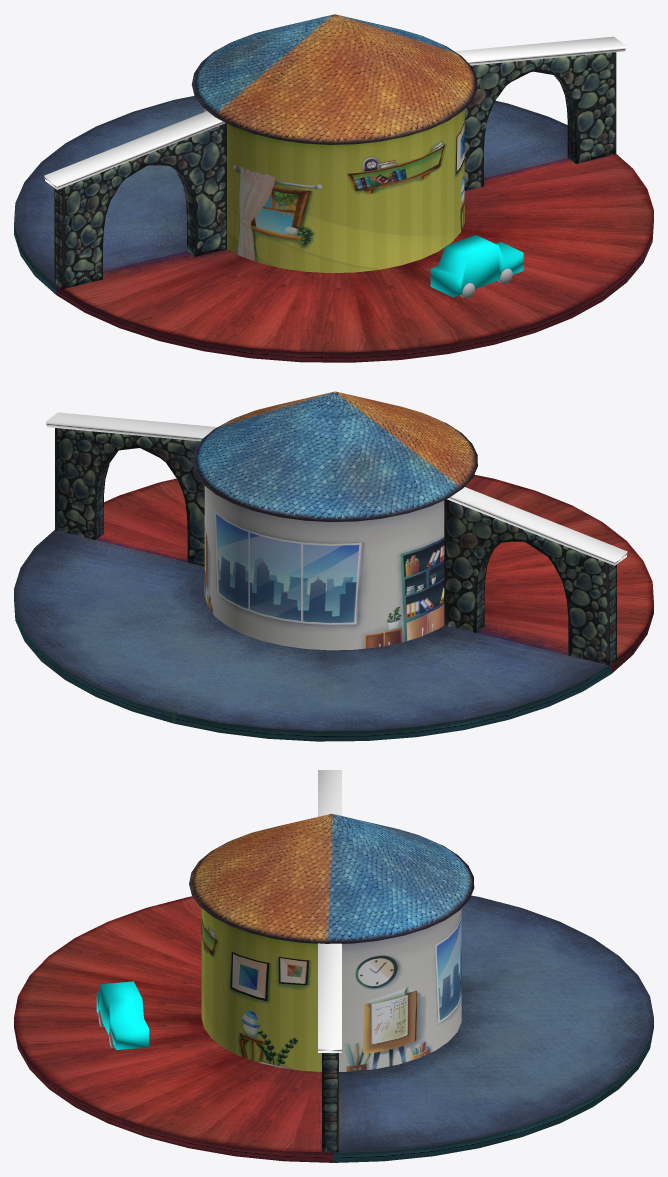
Rendered from Set_anim_Test_03_GLB.glb.
3 views of the same model, one above another, from view 1: azimuth 30°, elevation 25°; view 2: azimuth 150°, elevation 25°; view 3: azimuth 270°, elevation 25° (orthographic).
Visible parts, largest first — view 1: Set_01_4, Set_01_3, Set_01_1, Set_01_2, Car_01_2; view 2: Set_01_4, Set_01_3, Set_01_1, Set_01_2; view 3: Set_01_4, Set_01_3, Set_01_2, Car_01_2, Set_01_1.
Part boxes in pixels (x1=…): Set_01_4: x1=14, y1=96, x2=653, y2=362; Set_01_3: x1=191, y1=14, x2=477, y2=273; Set_01_1: x1=54, y1=52, x2=616, y2=290; Set_01_2: x1=44, y1=36, x2=625, y2=189; Car_01_2: x1=430, y1=235, x2=523, y2=297; Set_01_4: x1=14, y1=474, x2=653, y2=741; Set_01_3: x1=192, y1=391, x2=477, y2=650; Set_01_1: x1=55, y1=428, x2=616, y2=665; Set_01_2: x1=46, y1=412, x2=627, y2=565; Set_01_4: x1=14, y1=895, x2=653, y2=1162; Set_01_3: x1=189, y1=813, x2=474, y2=1071; Set_01_2: x1=318, y1=770, x2=341, y2=1052; Car_01_2: x1=96, y1=981, x2=149, y2=1049; Set_01_1: x1=322, y1=1053, x2=338, y2=1151.
Size of the model in its own units: 173 by 63.36 by 168.
6 materials, 3 textured.
